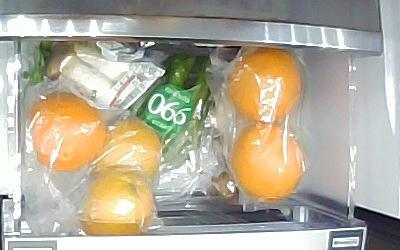orange_vinyl: (30, 93, 105, 173), (230, 124, 306, 202), (226, 49, 303, 123), (84, 173, 154, 236), (96, 119, 159, 181)
